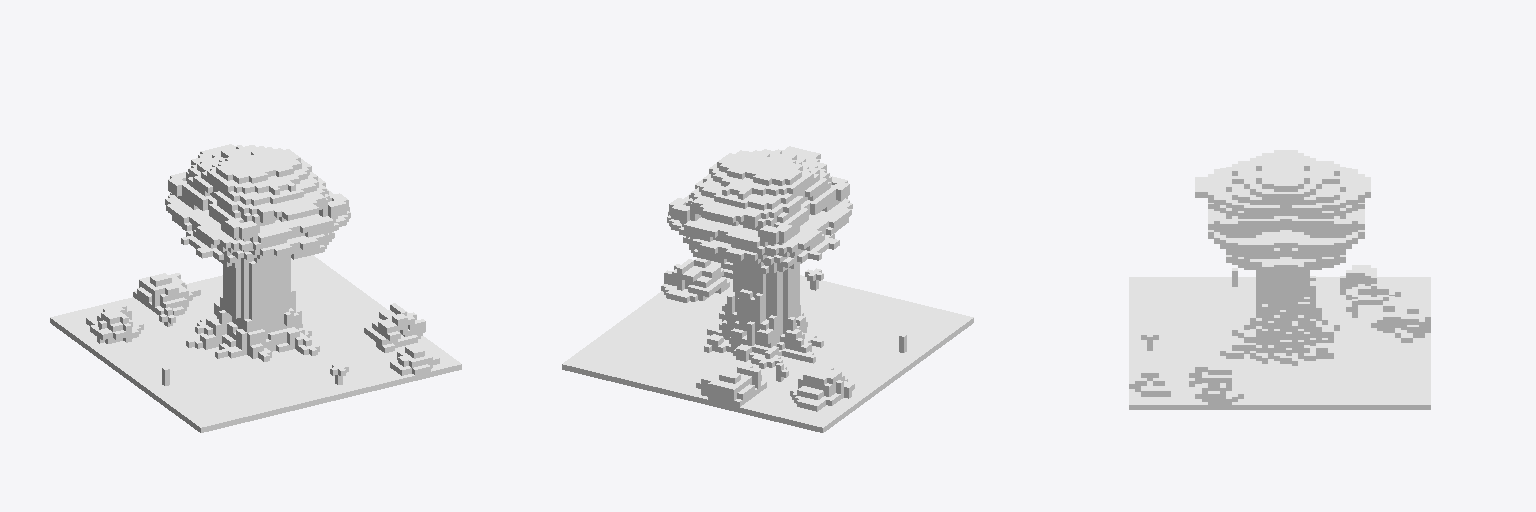
Rendered from Treesomethingasdopsdkopsdfjkpü.obj.
3 views of the same model, side by side, from view 1: azimuth 30°, elevation 25°; view 2: azimuth 150°, elevation 25°; view 3: azimuth 270°, elevation 25° (orthographic).
Visible parts, largest first — view 1: Treesomethingasdopsdkopsdfjkpü; view 2: Treesomethingasdopsdkopsdfjkpü; view 3: Treesomethingasdopsdkopsdfjkpü.
Part boxes in pixels (x1,y1,x2,y2): Treesomethingasdopsdkopsdfjkpü: (50, 144, 461, 432); Treesomethingasdopsdkopsdfjkpü: (562, 146, 973, 432); Treesomethingasdopsdkopsdfjkpü: (1129, 150, 1430, 409).
Bounding box in the file's own units: 50 × 33 × 50.